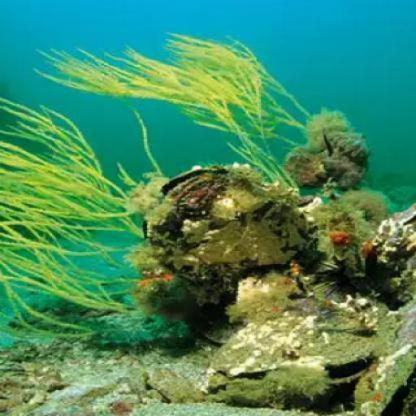Oyster- Indeterminate: (321, 124, 368, 187)
Oyster-Open: (141, 163, 324, 304), (220, 303, 384, 391), (351, 349, 416, 416), (385, 207, 416, 233)
